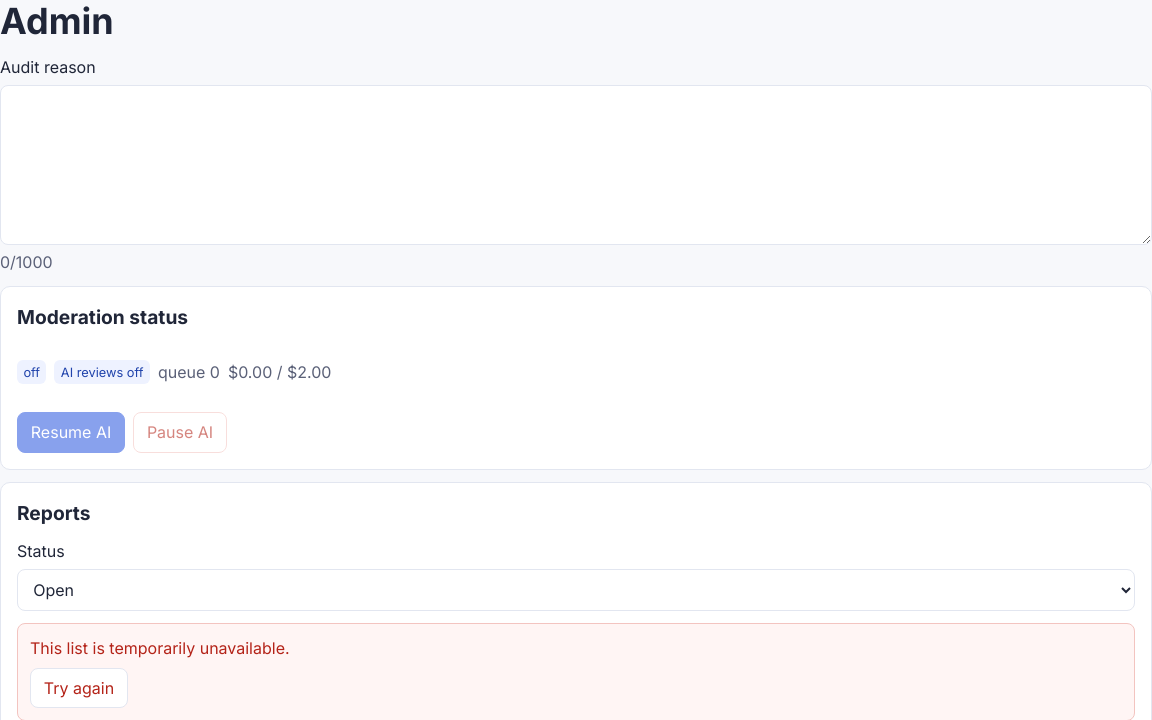
Scenario: recovers admin reports reads without falsely claiming the list is empty
Check: the message shows "This list is temporarily unavailable.", box top-left (30, 638), bottom-right (290, 658)
Check: the text "No reports." is not shown
What coordinates should you click on to do the following:
click the button "Try again"
I would click on:
 (79, 688)
Its box is top-left (30, 668), bottom-right (128, 708).
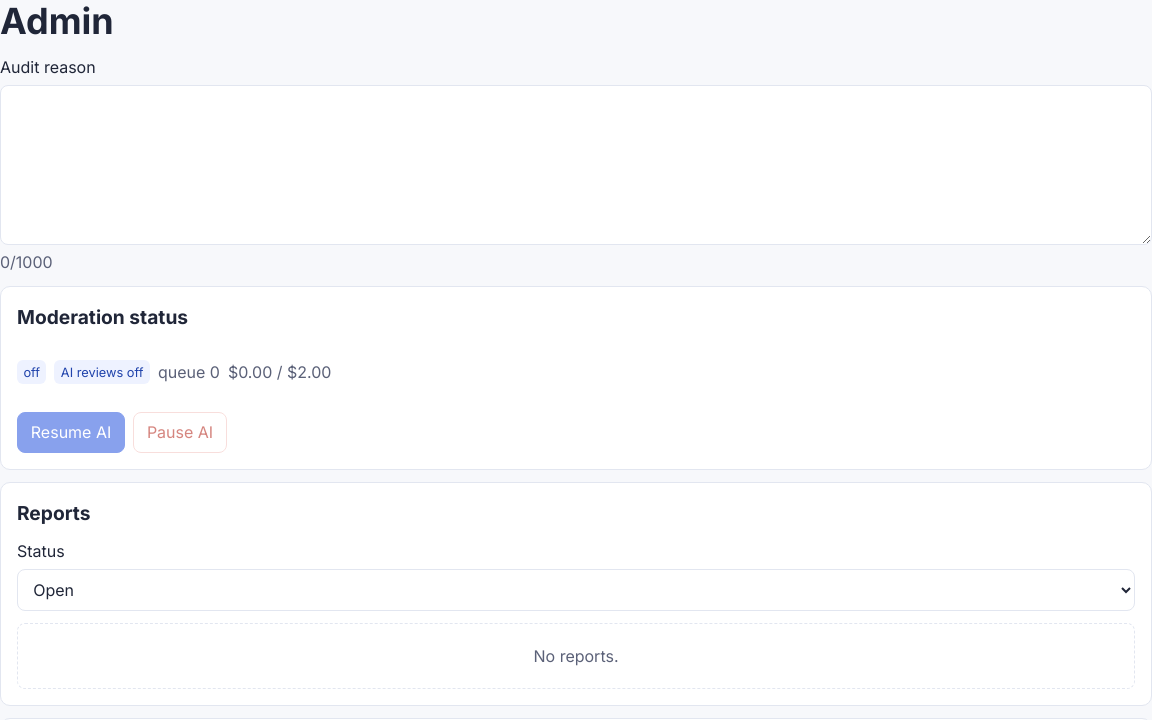
Check: the text "No reports." is shown, box top-left (17, 622), bottom-right (1135, 688)
Check: the message "This list is temporarily unavailable. Try again" is gone
